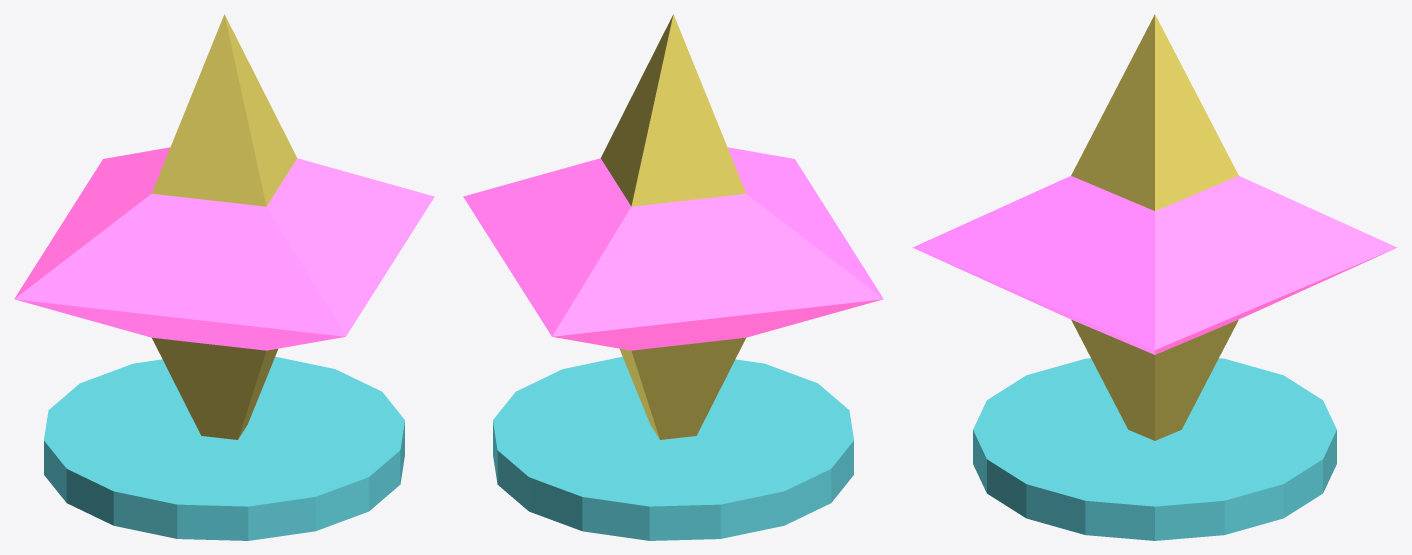
Rendered from station5_arts_crafts.glb.
3 views of the same model, side by side, from view 1: azimuth 30°, elevation 25°; view 2: azimuth 150°, elevation 25°; view 3: azimuth 270°, elevation 25° (orthographic).
Visible parts, largest first — view 1: StationArtifact; view 2: StationArtifact; view 3: StationArtifact.
Boxes of the visible parts, x1,y1,x2,y2 form: StationArtifact: [14, 14, 434, 540]; StationArtifact: [463, 14, 883, 540]; StationArtifact: [912, 14, 1397, 540].
Size of the model in its own units: 0.64 by 0.68 by 0.64.
